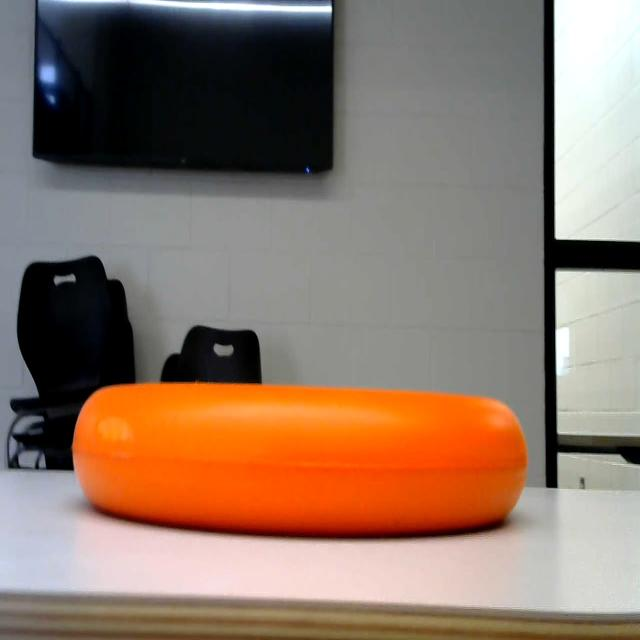note: (61, 368, 541, 548)
